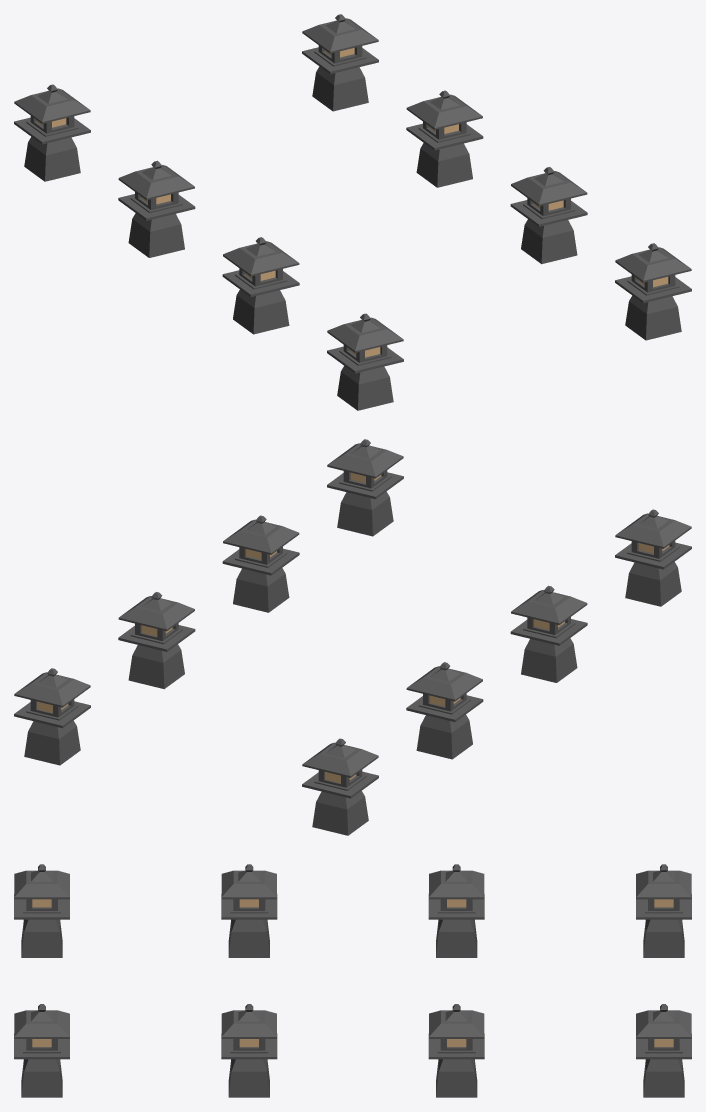
Rendered from 8-in-1-lamp.glb.
3 renders of one model, top to bottom at view 1: azimuth 30°, elevation 25°; view 2: azimuth 150°, elevation 25°; view 3: azimuth 270°, elevation 25°, orthographic.
Parts seen in each view (by area): view 1: Cube.002, Cube.001; view 2: Cube.002, Cube.001; view 3: Cube.002, Cube.001.
Boxes of the visible parts, <box> form: Cube.002: <box>14,14,691,410</box>; Cube.001: <box>36,48,668,357</box>; Cube.002: <box>14,439,691,835</box>; Cube.001: <box>37,472,669,783</box>; Cube.002: <box>14,864,691,1097</box>; Cube.001: <box>32,899,673,1046</box>.
Bounding box in the file's own units: 18.78 × 4.5 × 32.93.
